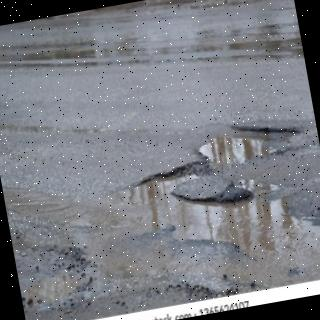pothole: (131, 126, 305, 242)
